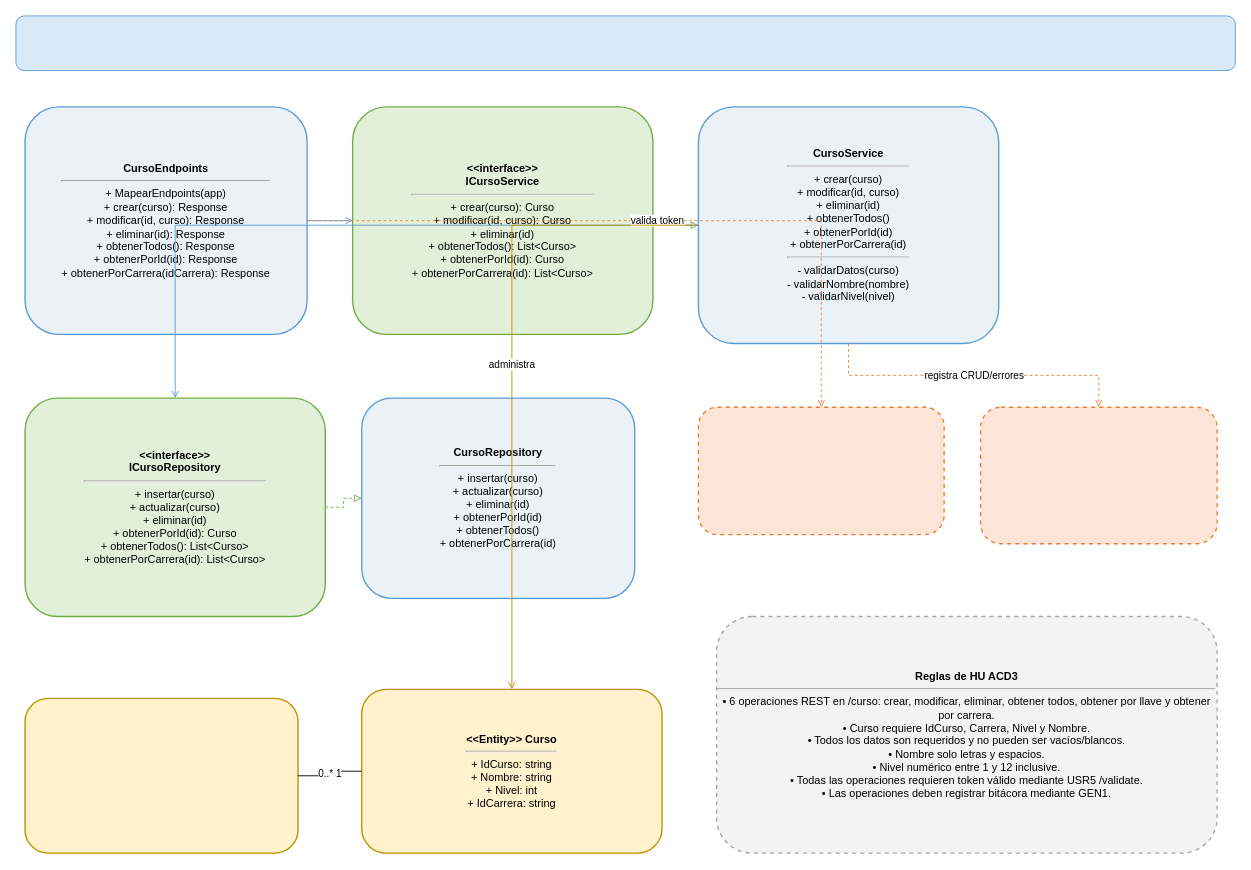
Image size: 1251x870. Some labels were removed from this diagram. The box of each missing label's shape, as (x1, y1, x2, y2) in pixels:
<<Entity>> Carrera + IdCarrera: string + Nombre: string ACD2: (24, 697, 298, 853)
<<externo>> IBitacoraClient + registrar(usuario, descripcion) GEN1 — /bitacora: (979, 406, 1217, 544)
<<externo>> ITokenValidator + validar(token): bool USR5 — /validate: (697, 406, 944, 535)
ACD3 — DIAGRAMA DE CLASES: ADMINISTRACIÓN DE CURSOS: (15, 15, 1235, 71)
